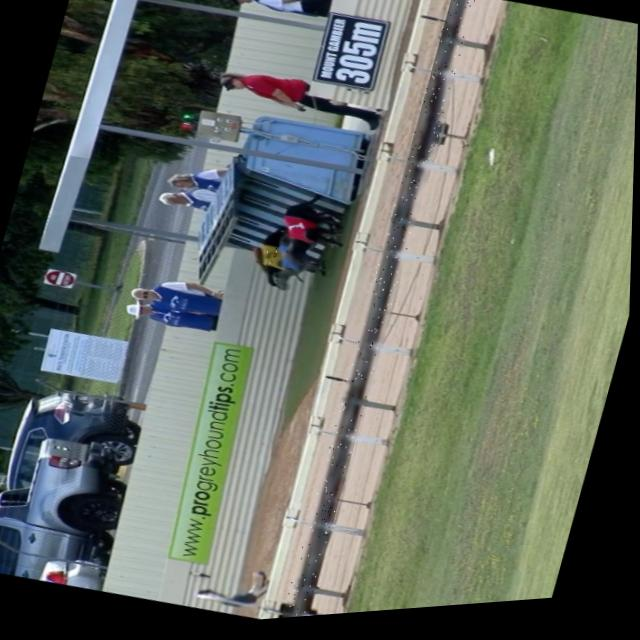dog_five: (258, 247, 285, 272)
dog_four: (276, 247, 304, 274)
dog_one: (282, 217, 313, 246)
rail: (295, 0, 469, 622)
